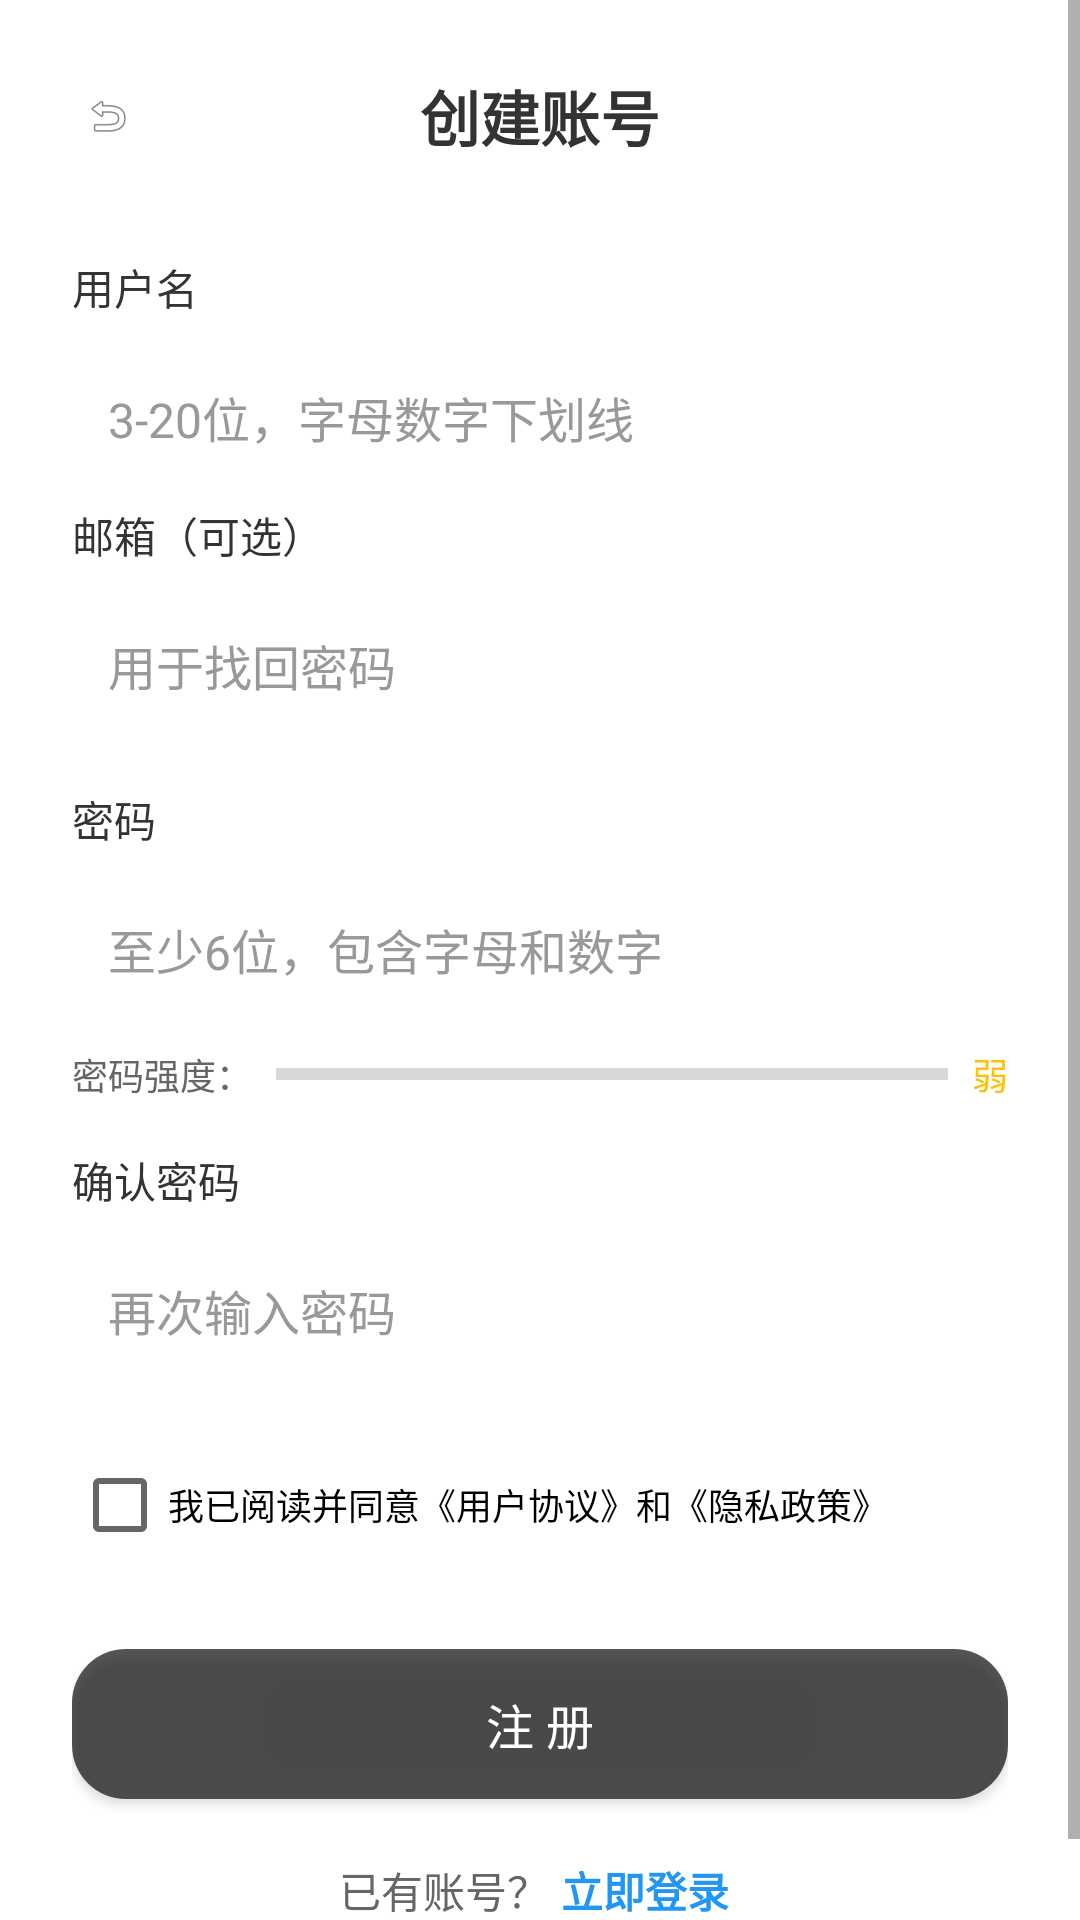

Point at icon controls on the screen. Image size 1080 x 1920, points as (x,y).
返回: (108,116)
